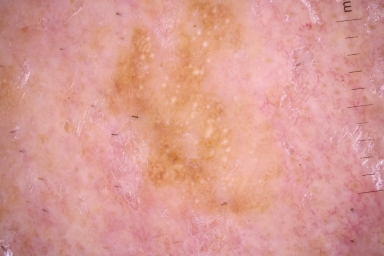seborrheic keratosis: (58, 6, 325, 232)
